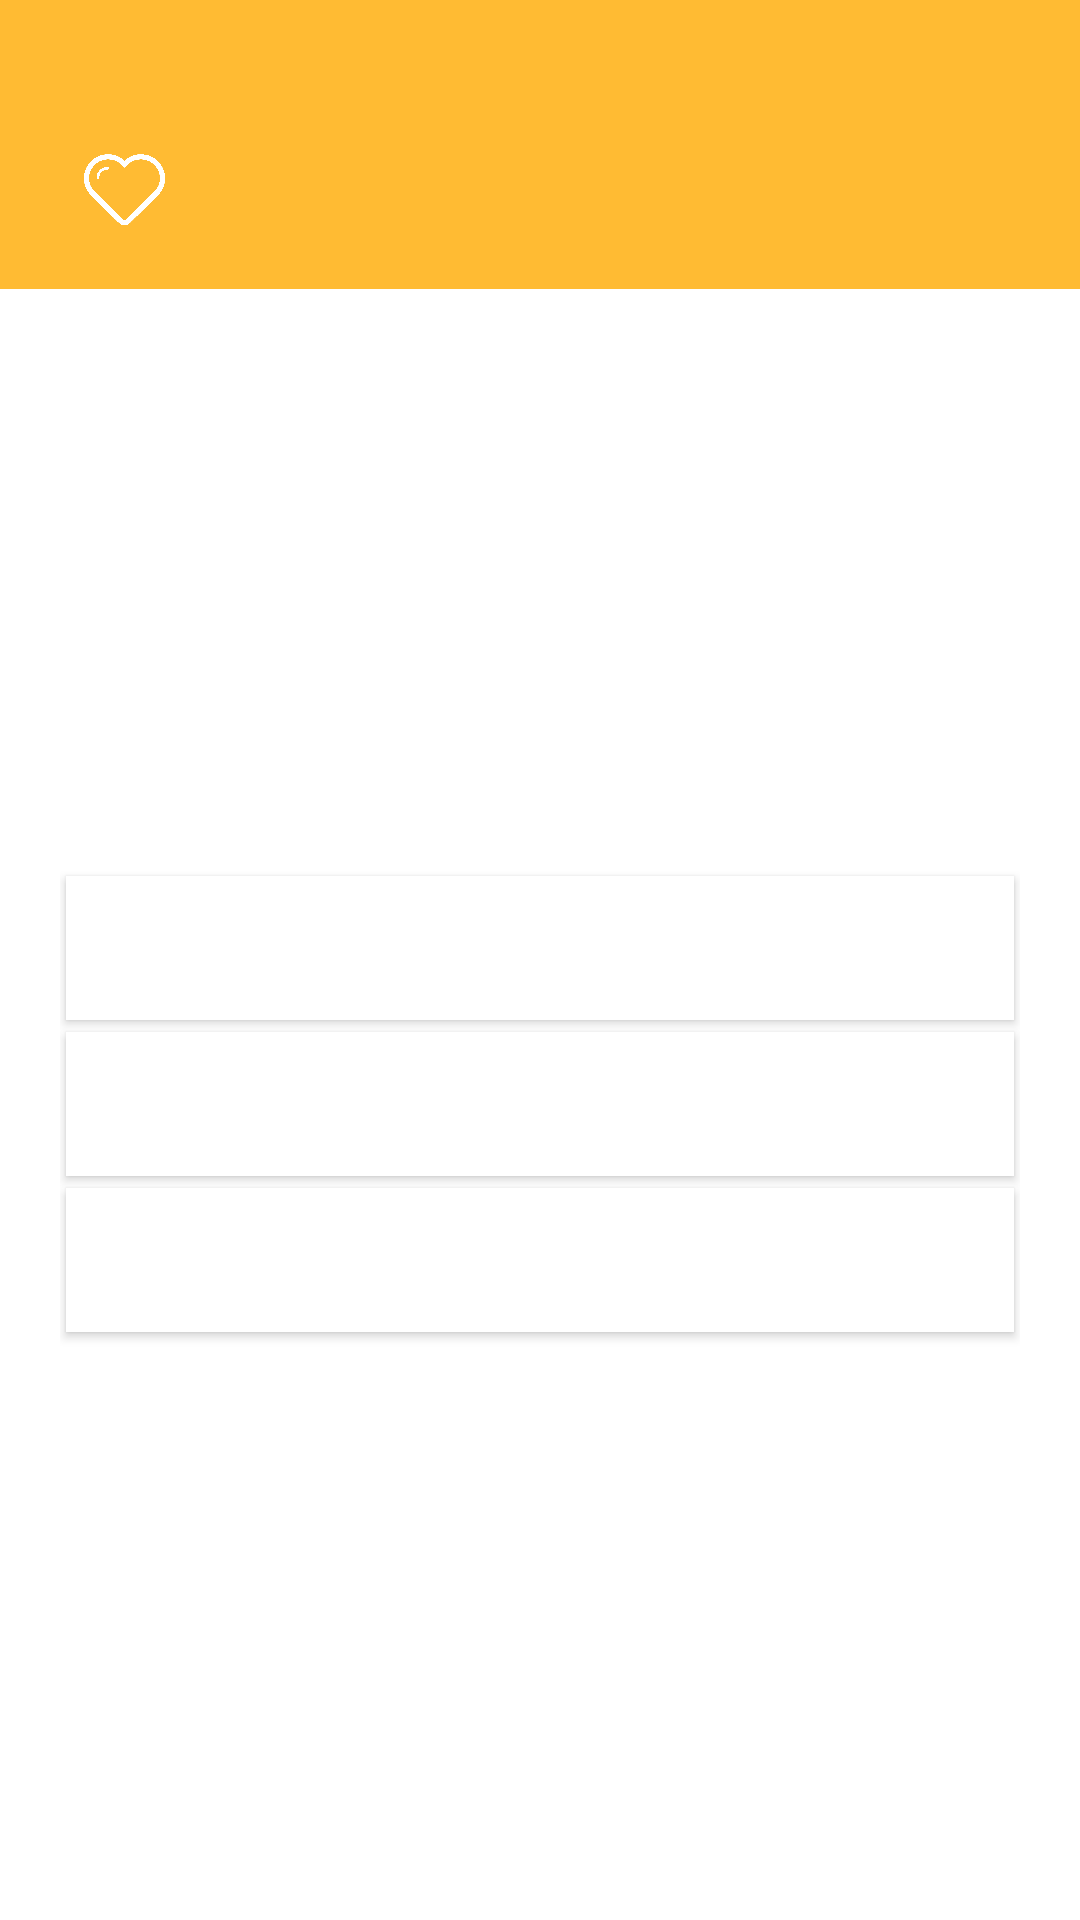

Named icons in this screenshot (1080*1920) and their centers, (x,y):
heart: (124,189)
